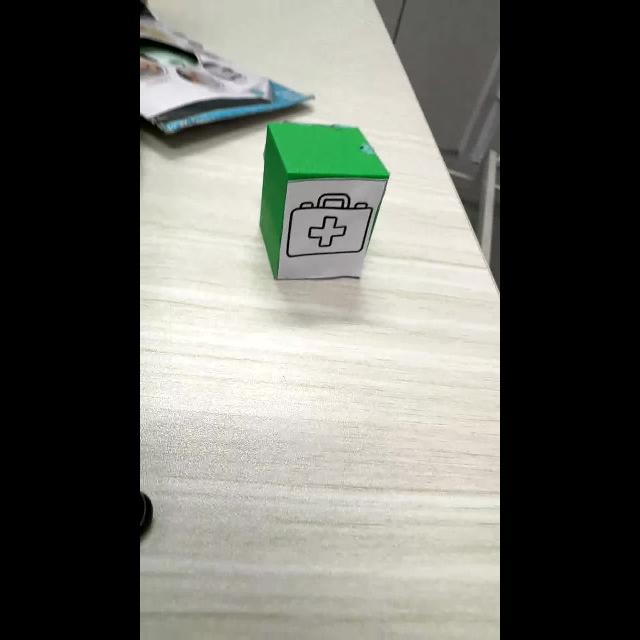Medkit: (286, 194, 373, 257)
